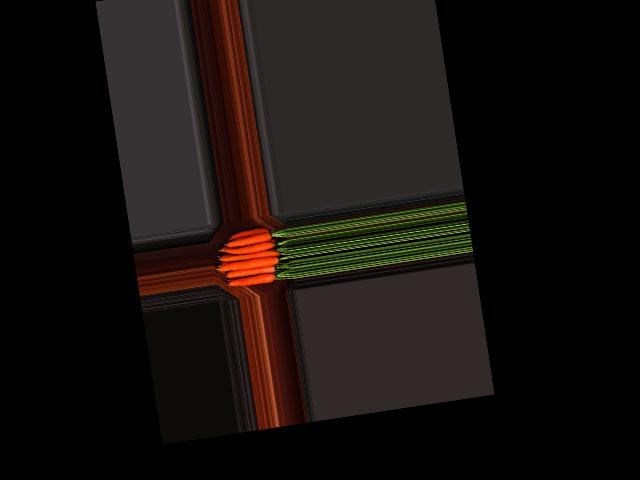carrot: (221, 223, 271, 243)
